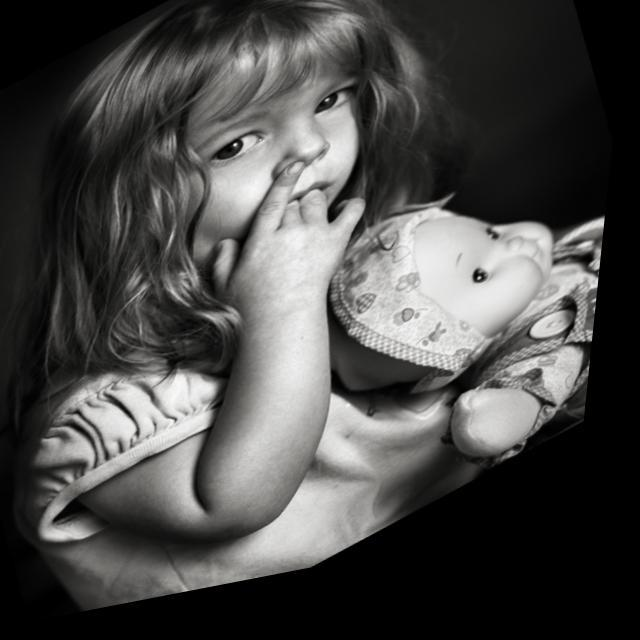Nonhelmet: (55, 0, 395, 266)
